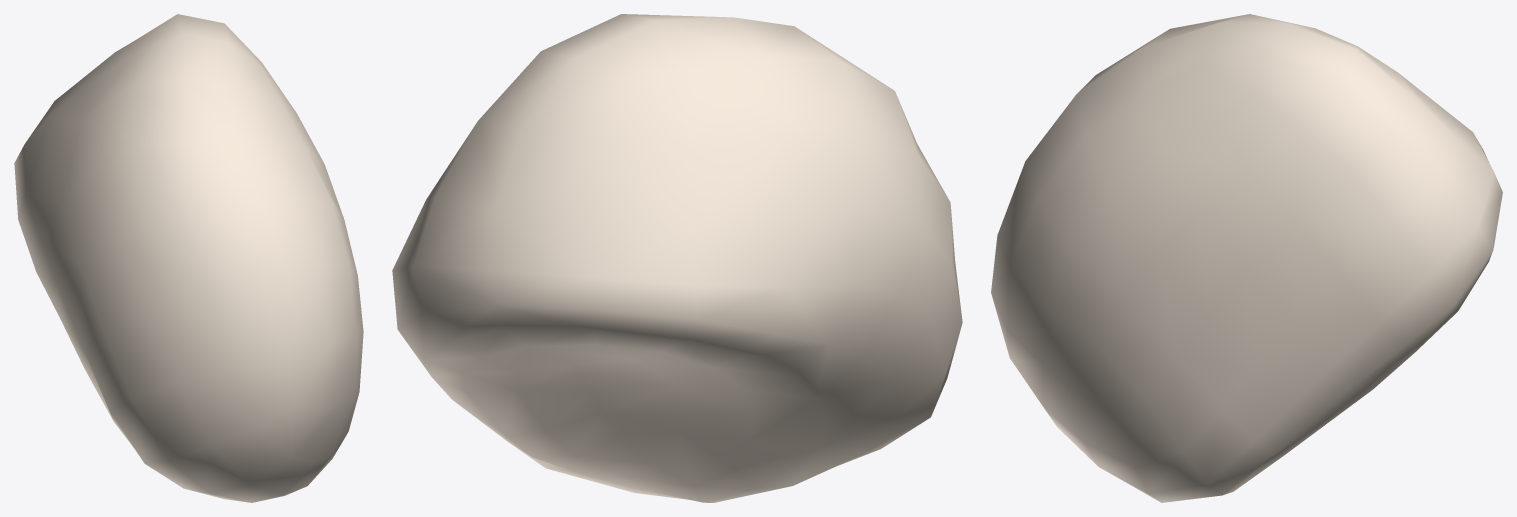
Rendered from right_pisiform.glb.
The picture shows the model from 3 angles, left to right: view 1: azimuth 30°, elevation 25°; view 2: azimuth 150°, elevation 25°; view 3: azimuth 270°, elevation 25°; orthographic projection. The views are drawn at different scales.
Parts seen in each view (by area): view 1: Pisiform.r; view 2: Pisiform.r; view 3: Pisiform.r.
Boxes of the visible parts, x1=… form: Pisiform.r: x1=14, y1=14, x2=363, y2=502; Pisiform.r: x1=392, y1=14, x2=962, y2=502; Pisiform.r: x1=991, y1=14, x2=1502, y2=502.
Size of the model in its own units: 0.0081 by 0.0108 by 0.0113.
